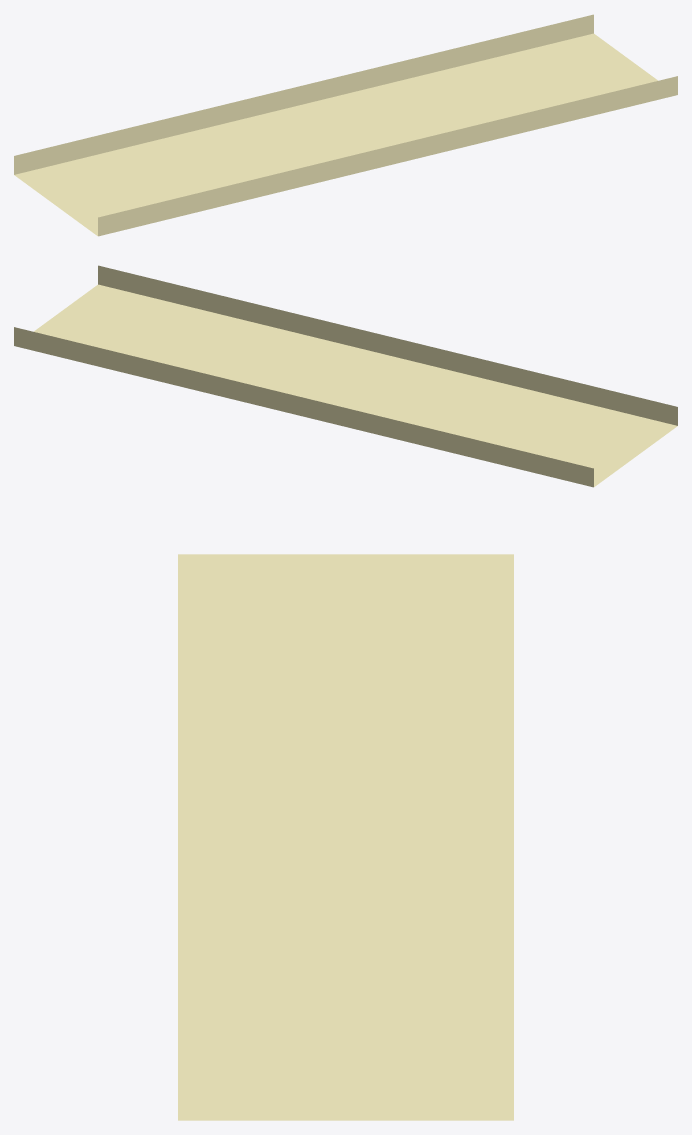
File: Itr_Couch_Outside_Bottom_02.FBX
3 renders of one model, top to bottom at view 1: azimuth 30°, elevation 25°; view 2: azimuth 150°, elevation 25°; view 3: azimuth 270°, elevation 25°, orthographic. The views are drawn at different scales.
Visible parts, largest first — view 1: Itr_Couch_Outside_Bottom_02; view 2: Itr_Couch_Outside_Bottom_02; view 3: Itr_Couch_Outside_Bottom_02.
Boxes of the visible parts, x1,y1,x2,y2 form: Itr_Couch_Outside_Bottom_02: [14, 14, 677, 236]; Itr_Couch_Outside_Bottom_02: [14, 265, 677, 487]; Itr_Couch_Outside_Bottom_02: [178, 554, 513, 1120].
Size of the model in its own units: 57.26 by 1.79 by 14.38.
